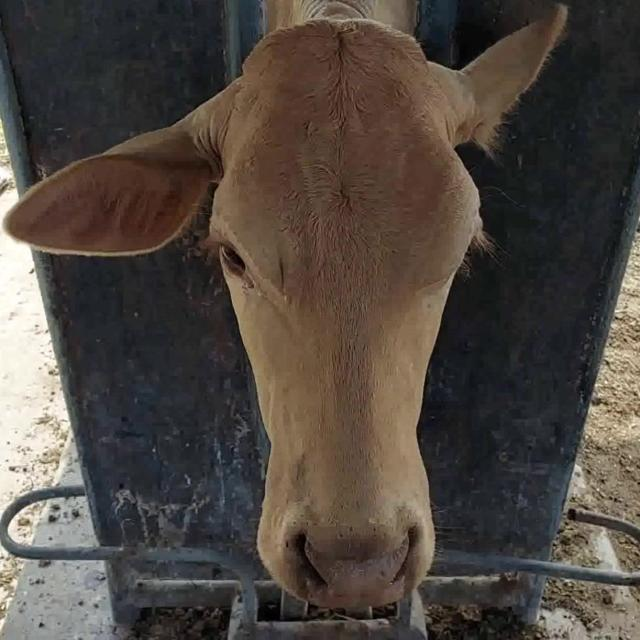cowFace: (210, 22, 477, 600)
